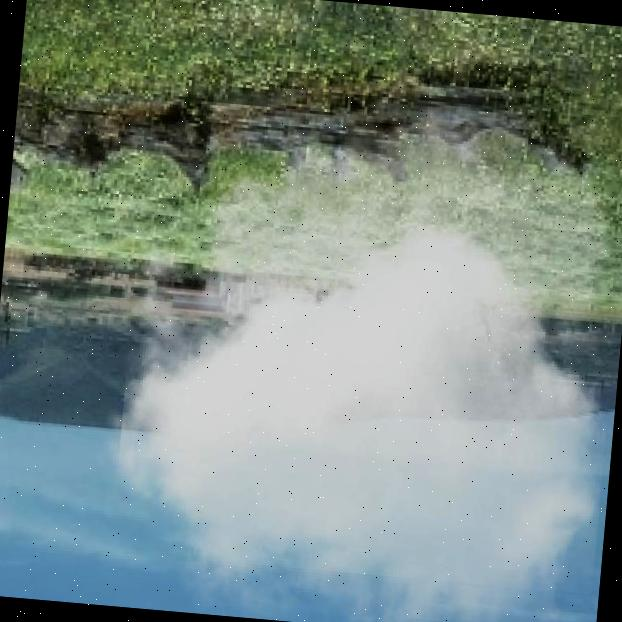smoke: (74, 54, 622, 622)
